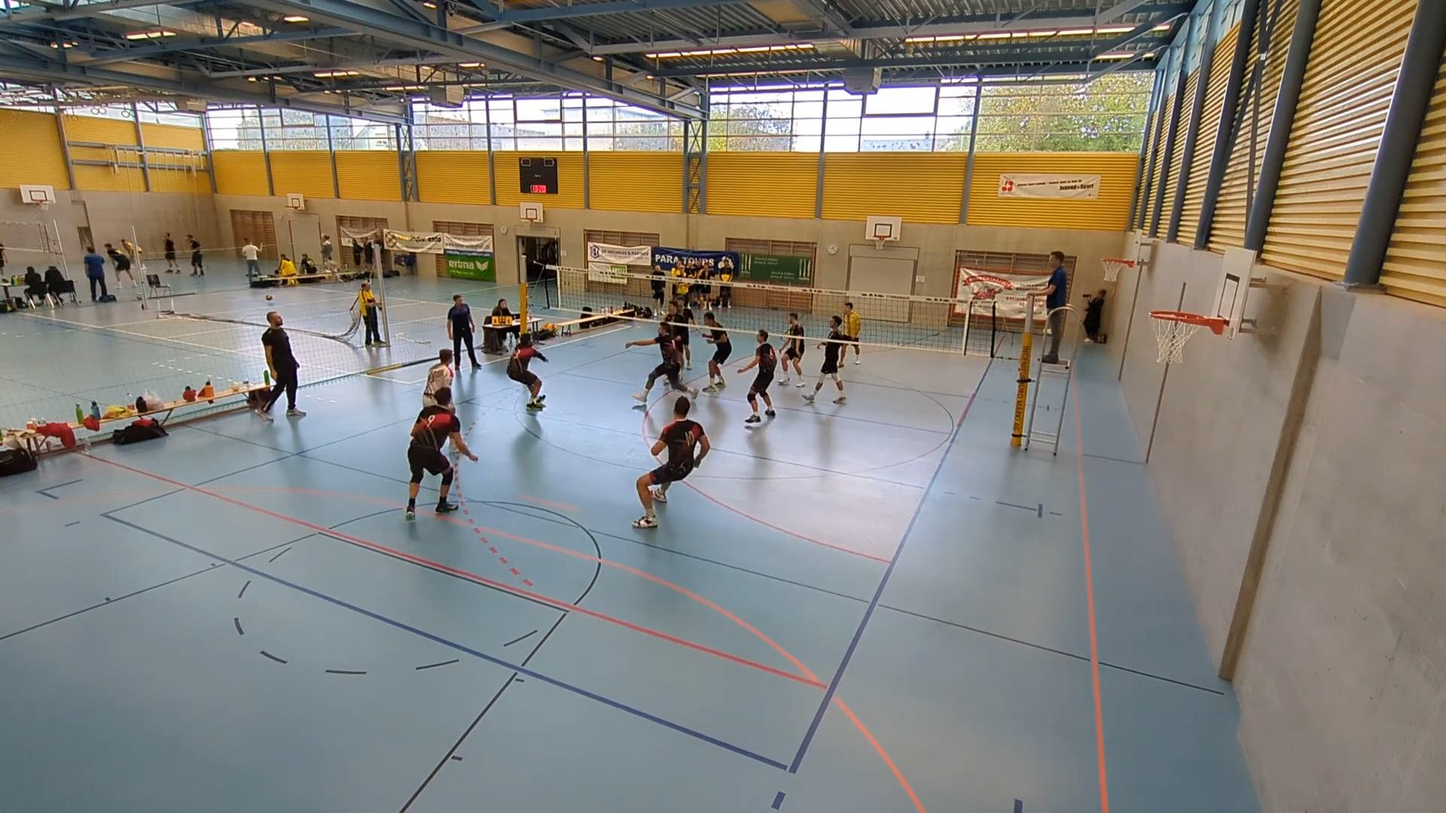Dig: (508, 330, 553, 413)
Player: (633, 397, 709, 528), (404, 388, 477, 519), (625, 322, 697, 406), (804, 316, 847, 403), (738, 329, 776, 423), (703, 312, 731, 391), (779, 312, 804, 385), (422, 349, 453, 406), (673, 299, 696, 370), (843, 302, 861, 364)
ball: (544, 323, 554, 332)
